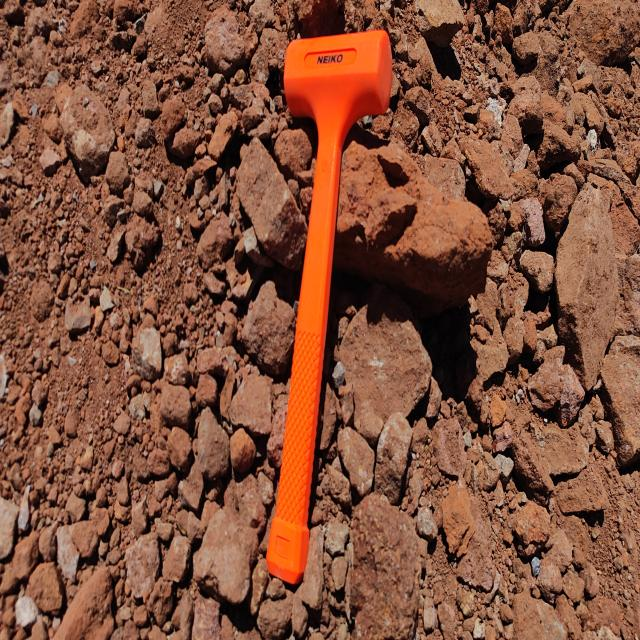Orange_hammer: (265, 27, 393, 585)
rock: (346, 146, 490, 275), (556, 186, 618, 360), (50, 78, 118, 174), (197, 9, 254, 86), (133, 321, 172, 387)
